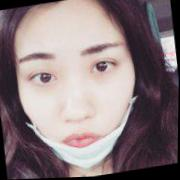WRONG: (10, 11, 146, 178)
